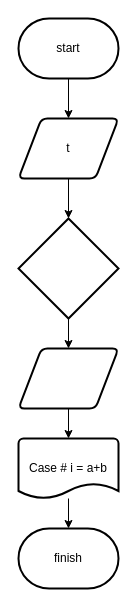
Image size: 136x606. Some labels were removed from this diagram. The centre of each missing label's shape, as x and y in pixels:
"a, b" goes at pixel 68 378.
"i = range(1,t+1)" goes at pixel 68 268.
